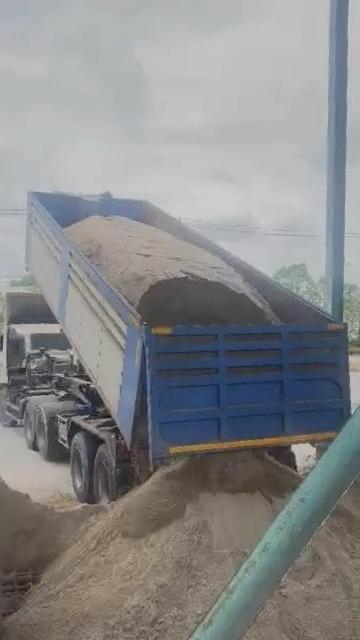sand: (4, 452, 299, 640), (206, 485, 360, 640), (66, 216, 278, 325), (0, 468, 104, 579), (137, 413, 148, 474), (45, 493, 77, 509)
